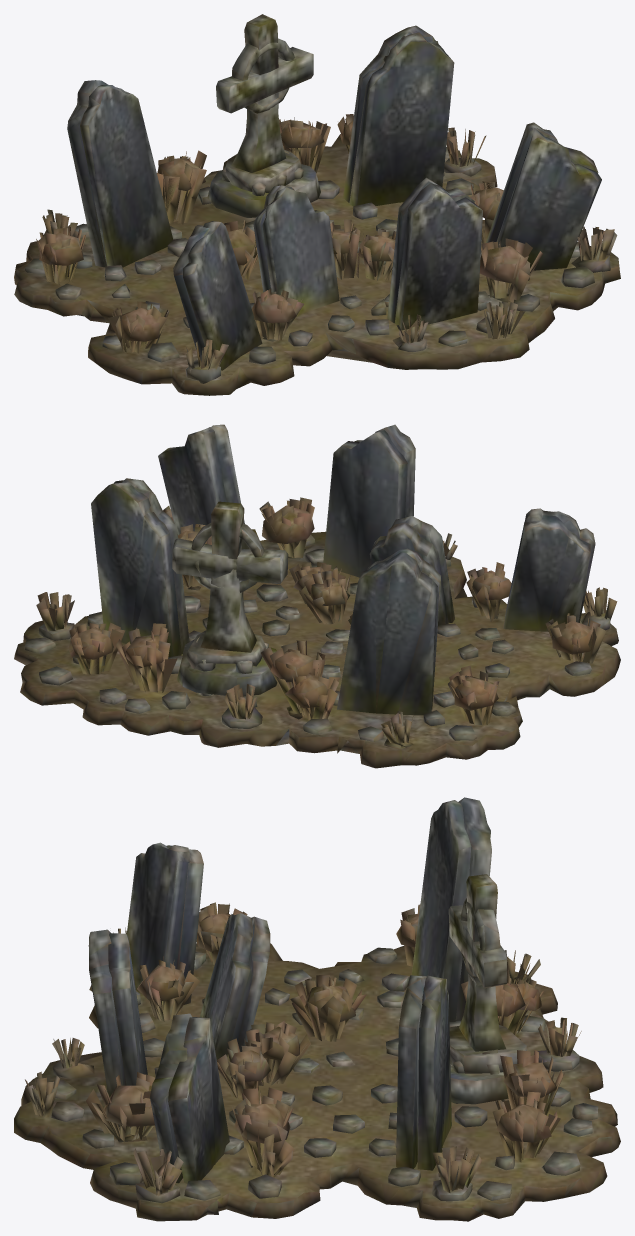
The model's file is grave_markers.glb.
3 renders of one model, top to bottom at view 1: azimuth 30°, elevation 25°; view 2: azimuth 150°, elevation 25°; view 3: azimuth 270°, elevation 25°, orthographic. The views are drawn at different scales.
Parts seen in each view (by area): view 1: kit-grave-markers-1; view 2: kit-grave-markers-1; view 3: kit-grave-markers-1.
Part boxes in pixels (<box>): kit-grave-markers-1: <box>14,14,620,395</box>; kit-grave-markers-1: <box>14,424,620,768</box>; kit-grave-markers-1: <box>14,797,620,1221</box>.
Bounding box in the file's own units: 3 × 1.2 × 2.86.
Materials: 1 (1 with a texture image).
